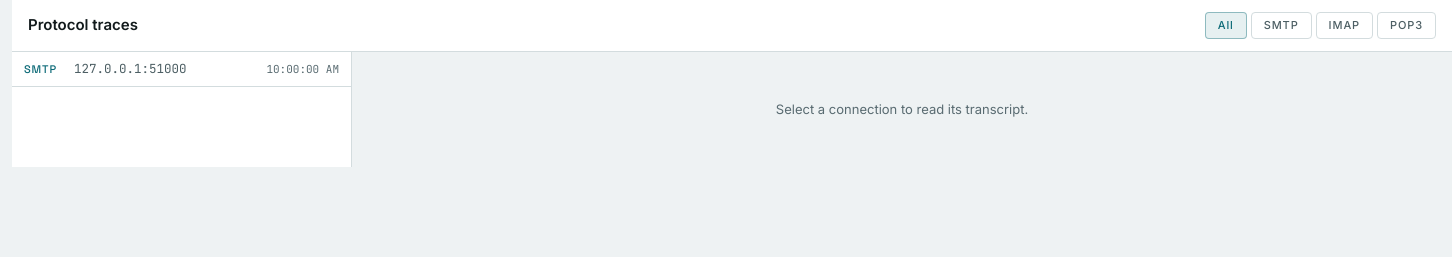
Scenario: TracesRoute › renders a transcript with its direction, and marks the client lines
This screenshot has width=1452, height=257.
Click the text "127.0.0.1:51000".
click(130, 68)  # box [74, 60, 186, 76]
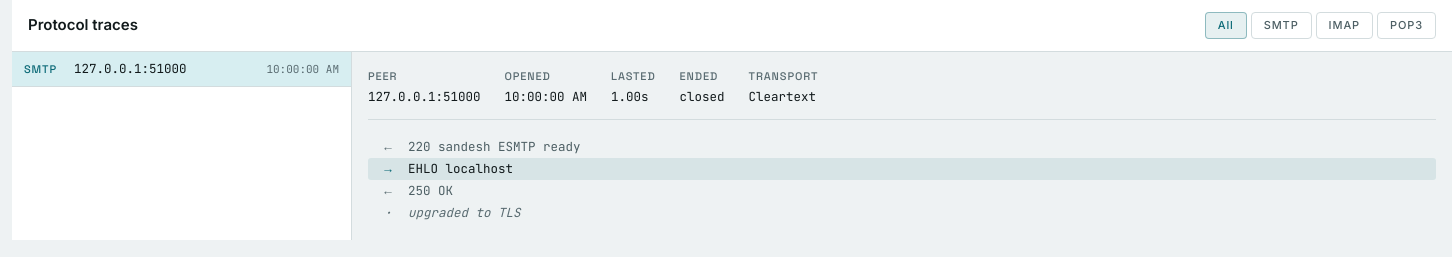
Expected: the text "EHLO localhost" is shown, [408, 160, 513, 177]
